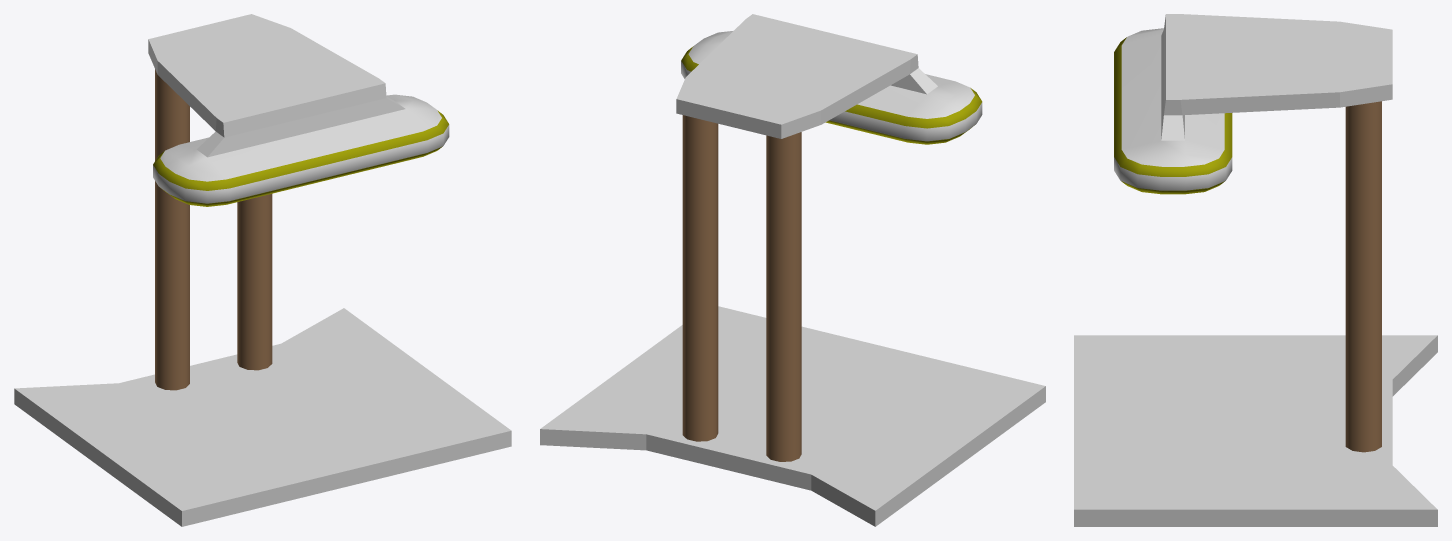
File: Accu_Charger.fbx
3 renders of one model, left to right at view 1: azimuth 30°, elevation 25°; view 2: azimuth 150°, elevation 25°; view 3: azimuth 270°, elevation 25°, orthographic. The views are drawn at different scales.
Parts seen in each view (by area): view 1: Accu_Charger; view 2: Accu_Charger; view 3: Accu_Charger.
Boxes of the visible parts, left/top/right/bottom form: Accu_Charger: left=14, top=14, right=511, bottom=526; Accu_Charger: left=540, top=14, right=1045, bottom=526; Accu_Charger: left=1074, top=14, right=1437, bottom=526.
Bounding box in the file's own units: 52.37 × 53.53 × 46.11.
